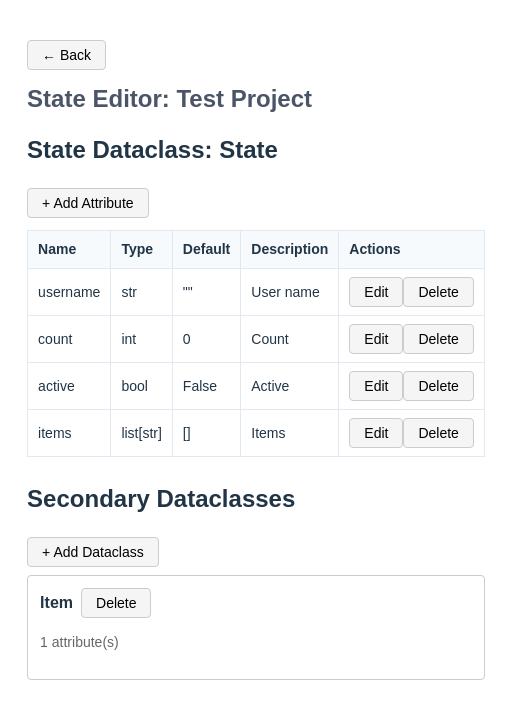
StateEditor adds a new attribute on button click
Click the button "+ Add Attribute". click: (88, 203)
box: 27,188 -> 149,218
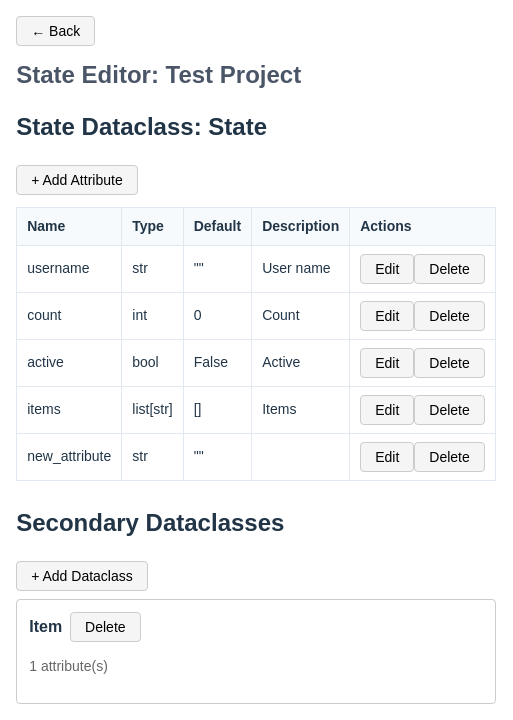
Expected: the number of buttons "Edit" is 5, 360,254 -> 414,284; 360,301 -> 414,331; 360,348 -> 414,378; 360,395 -> 414,425; 360,442 -> 414,472
